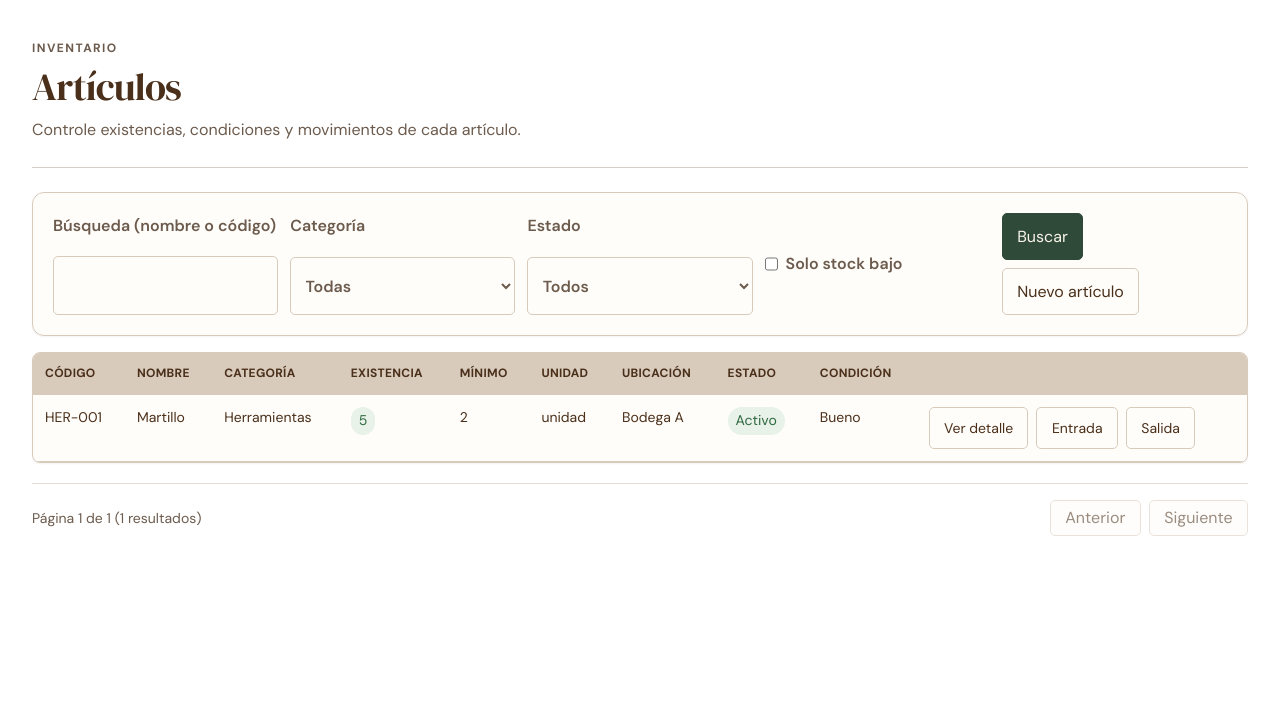
it: InventoryItemsPage › shows a clear message when there is insufficient stock on an exit
The width and height of the screenshot is (1280, 720).
Click the button "Salida".
click(1161, 428)  # box [1126,407,1195,449]
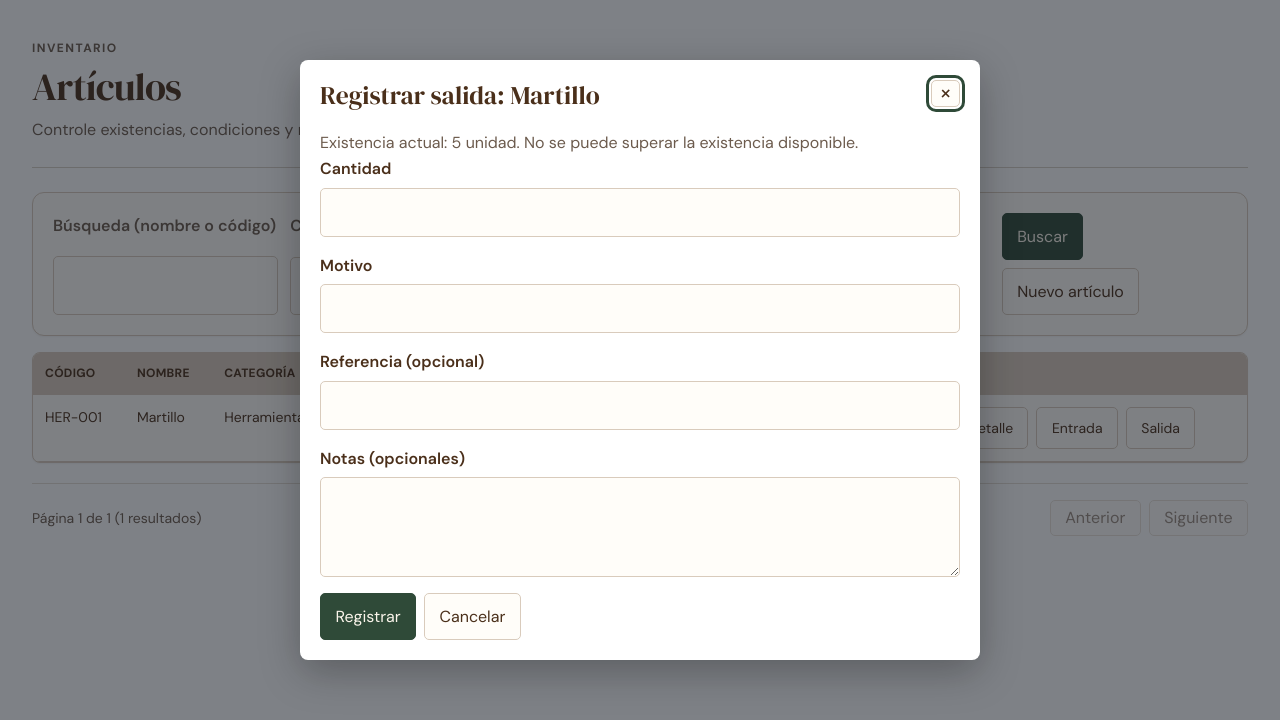
Check: the dialog "Registrar salida: Martillo" is shown, box [300,60,980,660]
Type "99" into the number field labelled "Cantidad".
click(640, 212); type("99")  # box [320,188,960,237]
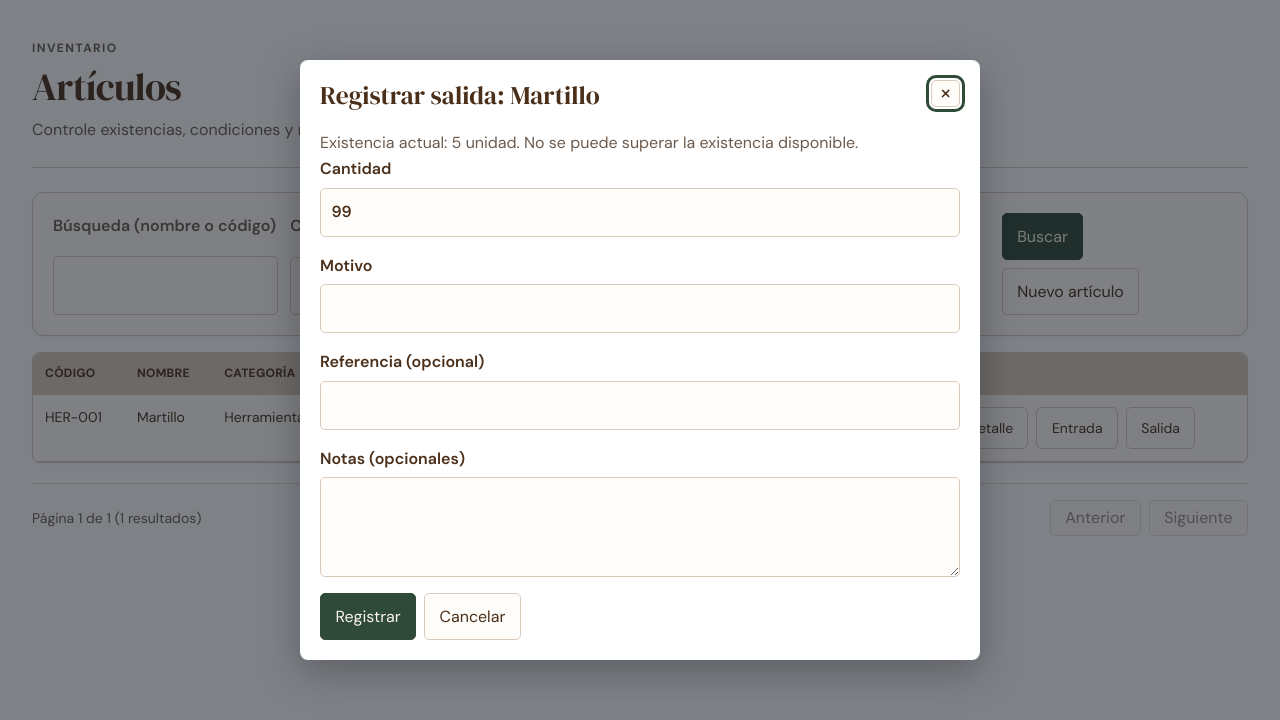
Type "Uso interno" into the field labelled "Motivo".
click(640, 309); type("Uso interno")  # box [320,284,960,333]
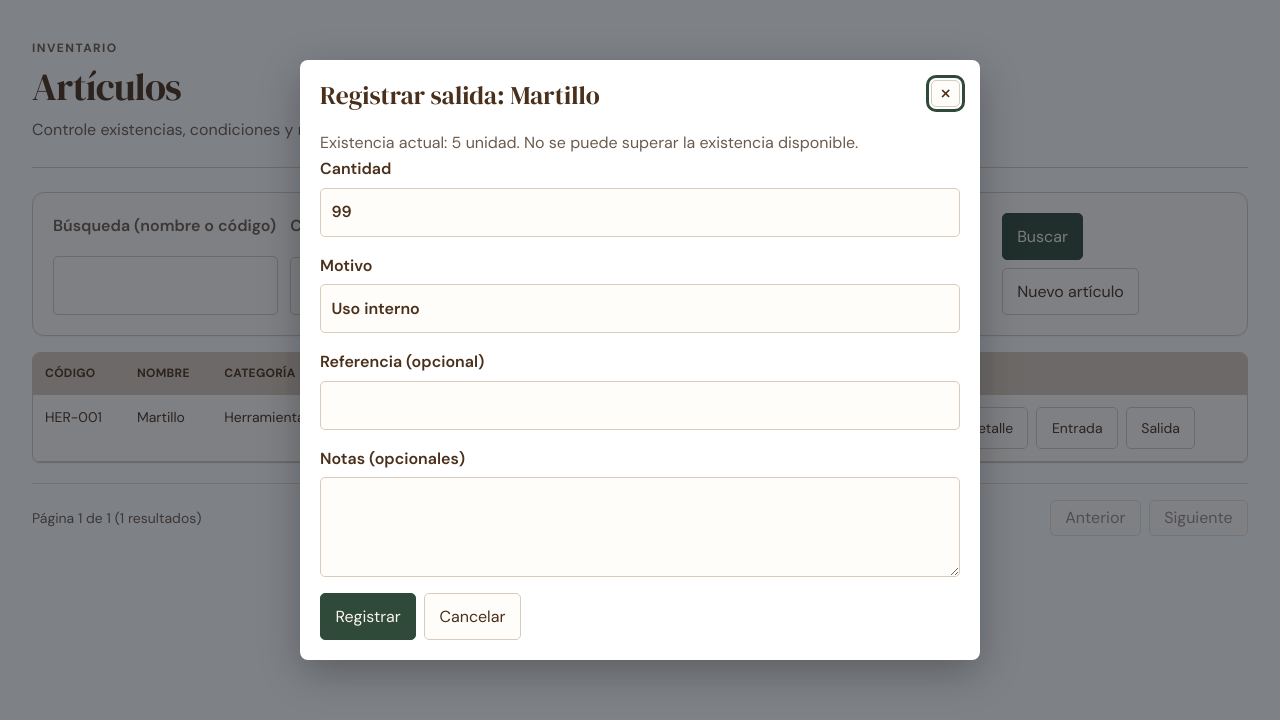
Click the button "Registrar".
click(368, 617)  # box [320,593,416,640]
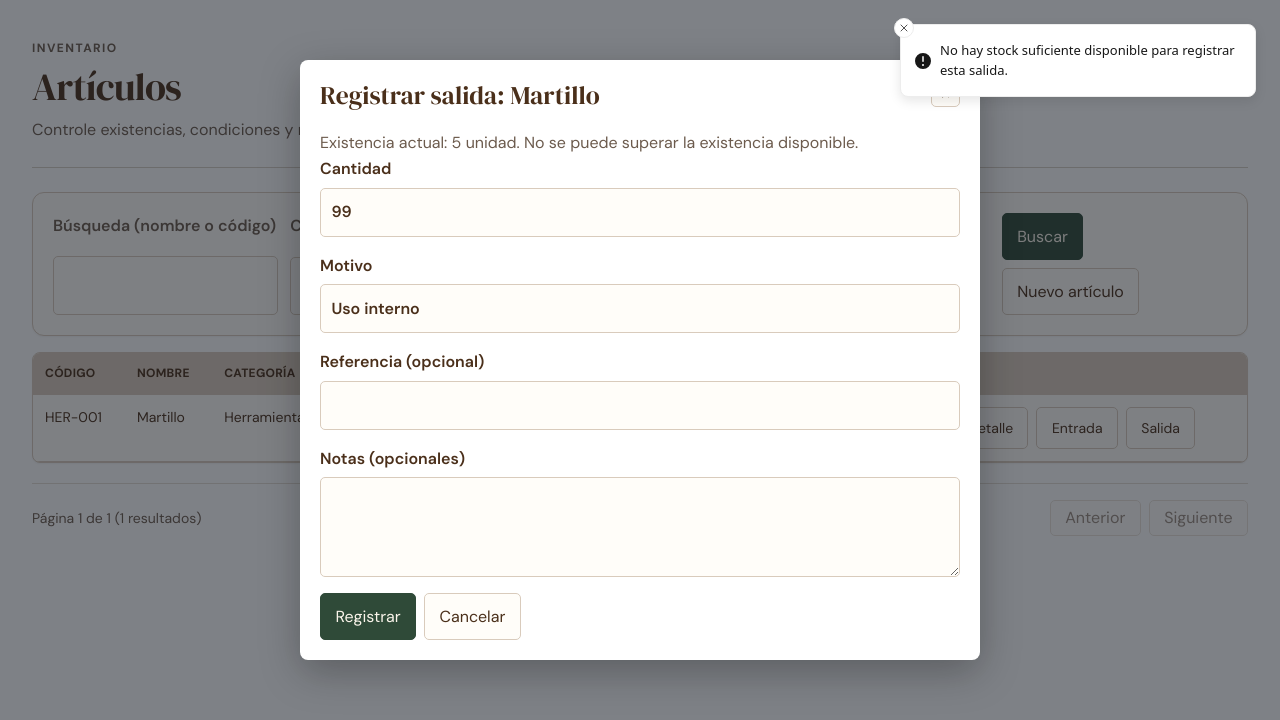
Check: the text "No hay stock suficiente disponible para registrar esta salida." is shown, box [940,41,1239,80]
